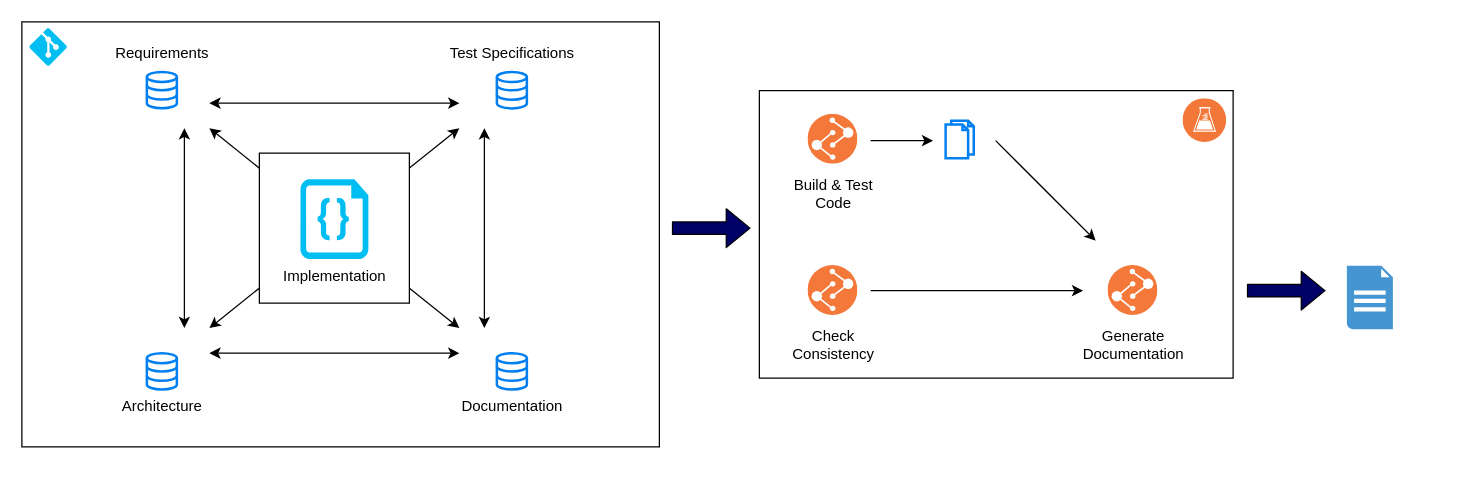
This 1463x495 diagram has some shape labels left out. Here are the shapes that lost their labels. From the top down, the box of each, then its label:
(944, 119, 974, 159): Test Results
(21, 21, 659, 447): Source Code Reposiotry
(758, 89, 1233, 378): Continuous Integration
(1346, 265, 1392, 328): Systems Engineering Documentation
